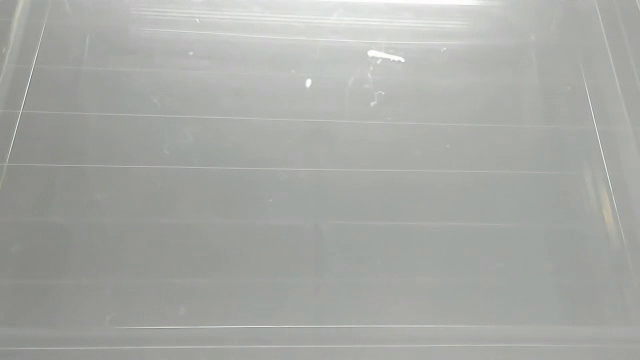alpha: (364, 46, 408, 69), (302, 74, 314, 93)
